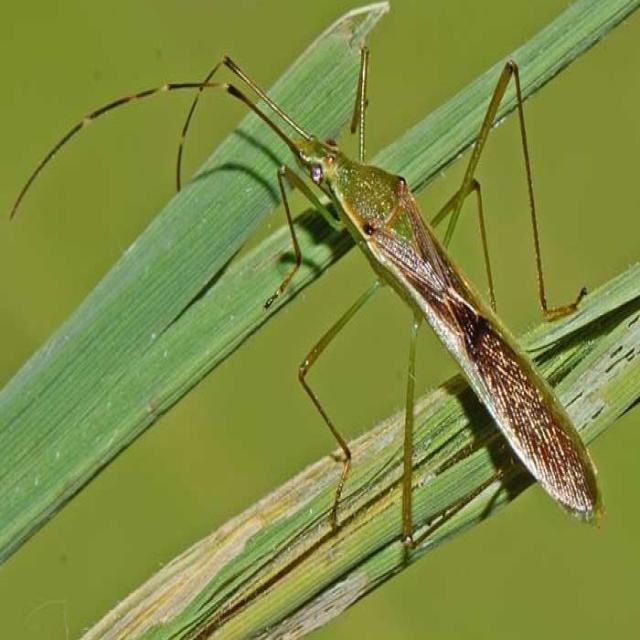walang sangit pada tanaman padi: (8, 3, 618, 557)
